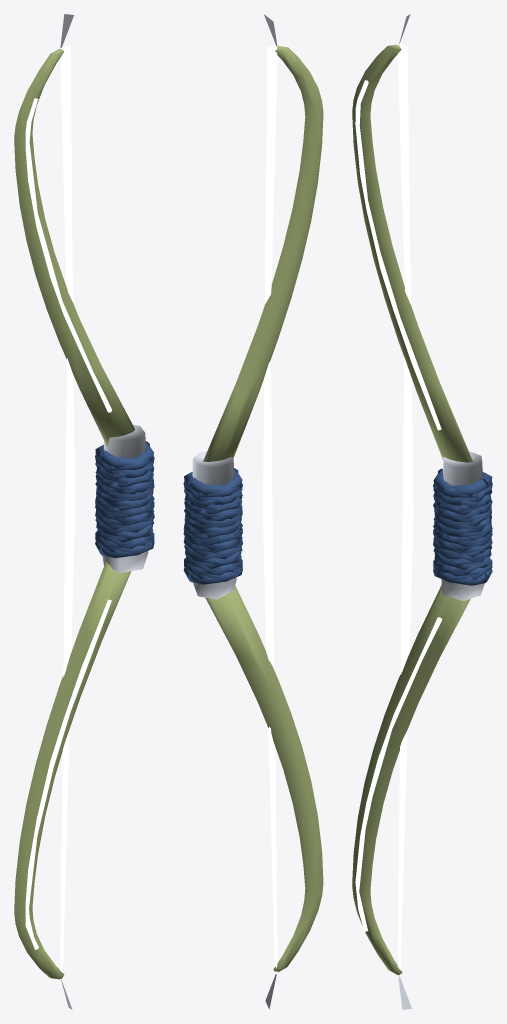
File: ngu-phong-truy-van.glb
3 renders of one model, left to right at view 1: azimuth 30°, elevation 25°; view 2: azimuth 210°, elevation 25°; view 3: azimuth 330°, elevation 25°, orthographic.
Parts seen in each view (by area): view 1: limb_up, limb_lo, string, wrap, vein_lo, vein_up, riser; view 2: limb_up, limb_lo, string, wrap, riser; view 3: limb_up, limb_lo, string, wrap, vein_up, vein_lo, riser.
Part boxes in pixels (<box>): limb_up: <box>14,48,134,446</box>; limb_lo: <box>14,562,130,979</box>; string: <box>60,45,74,980</box>; wrap: <box>95,441,154,558</box>; vein_lo: <box>25,599,111,949</box>; vein_up: <box>25,98,111,412</box>; riser: <box>102,424,148,572</box>; limb_up: <box>203,46,323,461</box>; limb_lo: <box>205,586,323,972</box>; string: <box>263,45,277,973</box>; wrap: <box>183,468,242,584</box>; riser: <box>192,451,236,599</box>; limb_up: <box>352,44,472,462</box>; limb_lo: <box>352,585,470,975</box>; string: <box>397,43,413,976</box>; wrap: <box>433,468,492,585</box>; vein_up: <box>355,80,441,430</box>; vein_lo: <box>355,617,441,931</box>; riser: <box>441,451,484,600</box>.
Bounding box in the file's own units: 0.2151 × 1.5 × 0.082.
